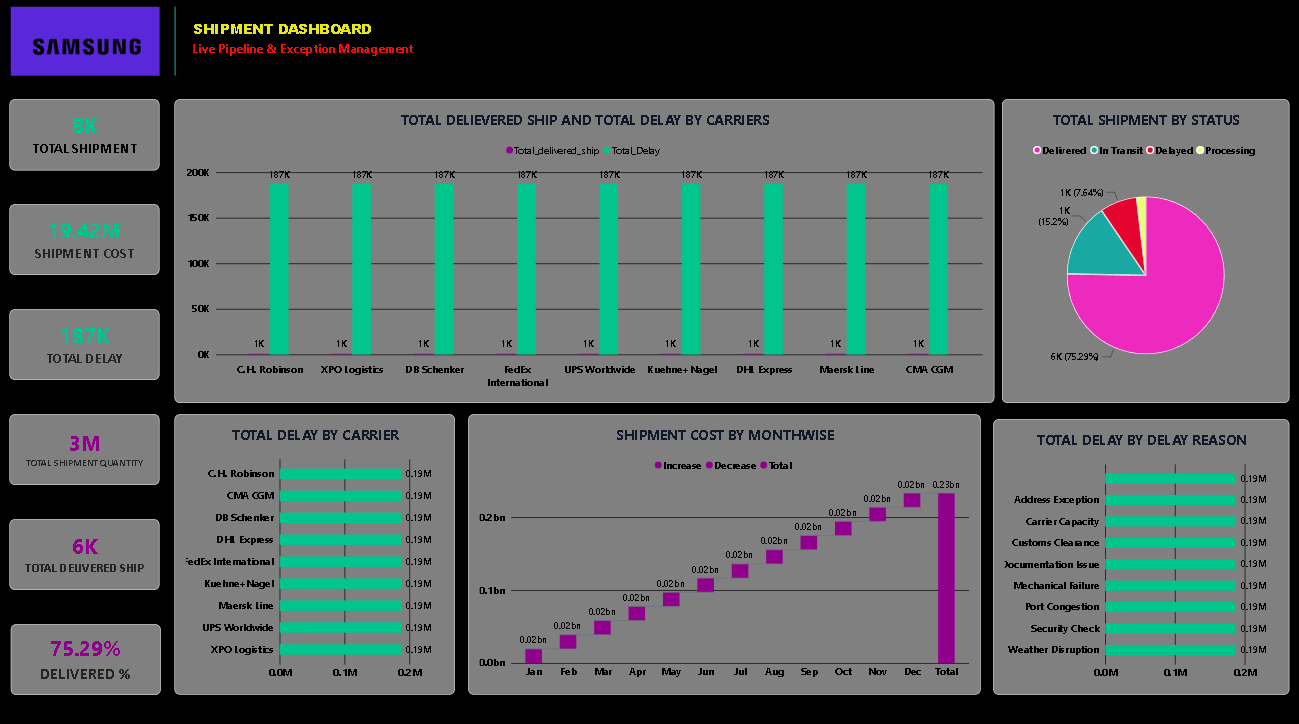

The page's visual inventory and layout, read from the dashboard file:
{"tool":"powerbi","page":{"name":"SHIPMENT","canvas":[1920,1080],"ordinal":4},"visuals":[{"type":"cardVisual","fields":{"Data":["MeasureTable.shipment_cost"]},"box":[18.1,304.1,221,104],"z":0},{"type":"shape","box":[174.8,12.9,174.8,101.2],"z":1000},{"type":"image","box":[20.2,12.9,219,101.2],"z":2000},{"type":"textbox","title":"SHIPMENT DASHBOARD","box":[289,31.3,354.7,67],"z":3000},{"type":"cardVisual","fields":{"Data":["MeasureTable.Total_Delay"]},"box":[18.1,458.8,221,104],"z":4000},{"type":"cardVisual","fields":{"Data":["MeasureTable.Total_Shipment_quantity"]},"box":[18.1,613.5,221,104],"z":5000},{"type":"cardVisual","fields":{"Data":["MeasureTable.Total_delivered_ship"]},"box":[18.1,768.2,221,104],"z":6000},{"type":"cardVisual","fields":{"Data":["MeasureTable.Total_Shipment"]},"box":[18.1,148.4,221,105],"z":7000},{"type":"cardVisual","fields":{"Data":["MeasureTable.delivered%"]},"box":[19.9,922.9,221,104],"z":8000},{"type":"clusteredBarChart","title":"TOTAL DELAY BY CARRIER","fields":{"Y":["MeasureTable.Total_Delay"],"Category":["fact_shipment.carrier"]},"box":[260.6,613.5,412.6,412.6],"z":9000},{"type":"clusteredColumnChart","title":"TOTAL DELIEVERED SHIP AND TOTAL DELAY BY CARRIERS","fields":{"Category":["fact_shipment.carrier"],"Y":["MeasureTable.Total_delivered_ship","MeasureTable.Total_Delay"]},"box":[260.6,148.4,1207,447],"z":10000},{"type":"waterfallChart","title":"SHIPMENT COST BY MONTHWISE","fields":{"Category":["dim_date.Month_short"],"Y":["MeasureTable.shipment_cost"]},"box":[693.1,613.5,754.6,412.6],"z":11000},{"type":"pieChart","title":"TOTAL SHIPMENT BY STATUS","fields":{"Category":["fact_shipment.status"],"Y":["MeasureTable.Total_Shipment"]},"box":[1480,149.1,423.5,447],"z":12000},{"type":"clusteredBarChart","title":"TOTAL DELAY BY DELAY REASON","fields":{"Y":["MeasureTable.Total_Delay"],"Category":["fact_shipment.delay_reason"]},"box":[1467.6,620.7,436.1,405.4],"z":13000}]}

Visuals, with their boxes in screenshot pixels (x1, y1, x2, y2), scaled from the page's 1920x1080 canvas onto the 1299x724 screenshot:
cardVisual - MeasureTable.shipment_cost: (left=12, top=204, right=162, bottom=274)
shape: (left=118, top=9, right=237, bottom=76)
image: (left=14, top=9, right=162, bottom=76)
"SHIPMENT DASHBOARD" textbox: (left=196, top=21, right=436, bottom=66)
cardVisual - MeasureTable.Total_Delay: (left=12, top=308, right=162, bottom=377)
cardVisual - MeasureTable.Total_Shipment_quantity: (left=12, top=411, right=162, bottom=481)
cardVisual - MeasureTable.Total_delivered_ship: (left=12, top=515, right=162, bottom=585)
cardVisual - MeasureTable.Total_Shipment: (left=12, top=99, right=162, bottom=170)
cardVisual - MeasureTable.delivered%: (left=13, top=619, right=163, bottom=688)
"TOTAL DELAY BY CARRIER" clusteredBarChart: (left=176, top=411, right=455, bottom=688)
"TOTAL DELIEVERED SHIP AND TOTAL DELAY BY CARRIERS" clusteredColumnChart: (left=176, top=99, right=993, bottom=399)
"SHIPMENT COST BY MONTHWISE" waterfallChart: (left=469, top=411, right=979, bottom=688)
"TOTAL SHIPMENT BY STATUS" pieChart: (left=1001, top=100, right=1288, bottom=400)
"TOTAL DELAY BY DELAY REASON" clusteredBarChart: (left=993, top=416, right=1288, bottom=688)
